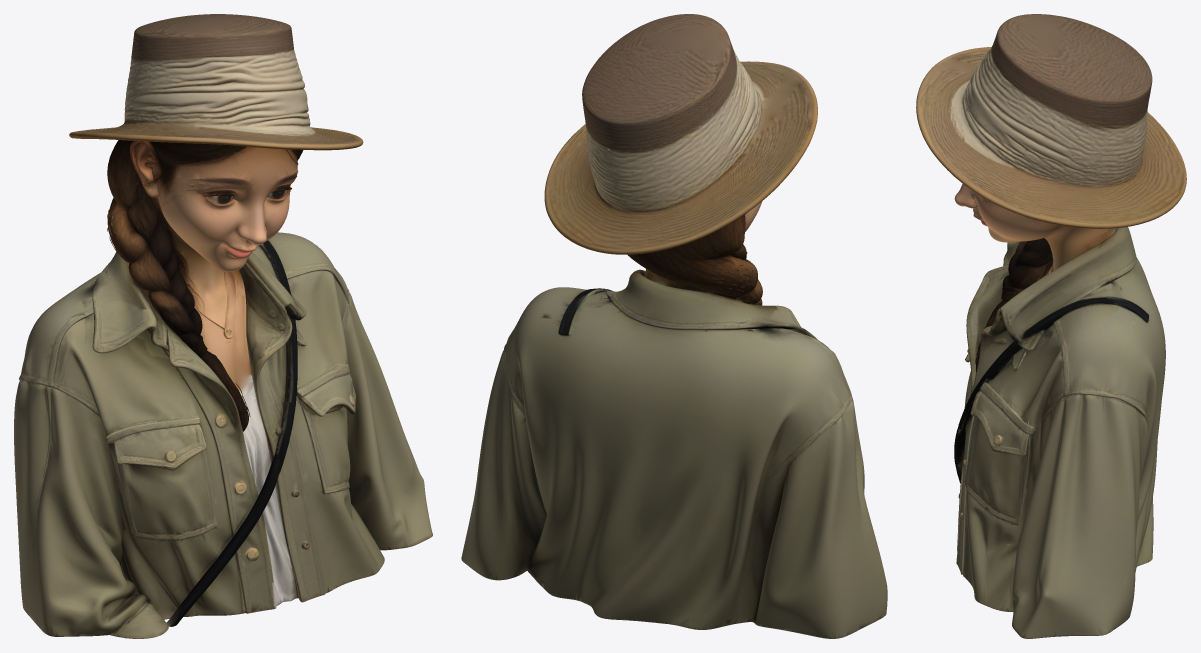
File: character.glb
3 views of the same model, side by side, from view 1: azimuth 30°, elevation 25°; view 2: azimuth 150°, elevation 25°; view 3: azimuth 270°, elevation 25° (orthographic). The views are drawn at different scales.
Visible parts, largest first — view 1: node_0; view 2: node_0; view 3: node_0.
Boxes of the visible parts, x1,y1,x2,y2 form: node_0: (14, 14, 432, 638); node_0: (461, 14, 887, 638); node_0: (916, 14, 1186, 638).
Size of the model in its own units: 0.7111 by 0.9636 by 0.4543.
Materials: 1 (1 with a texture image).
